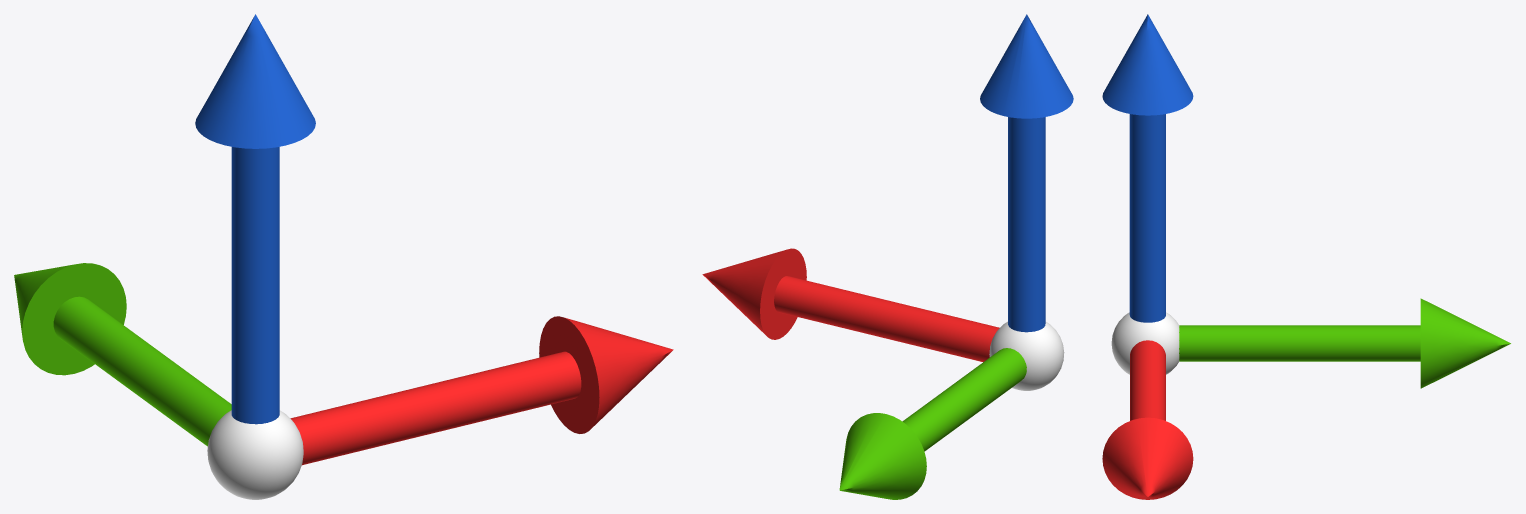
Rendered from axis_gizmo.glb.
3 views of the same model, side by side, from view 1: azimuth 30°, elevation 25°; view 2: azimuth 150°, elevation 25°; view 3: azimuth 270°, elevation 25° (orthographic). The views are drawn at different scales.
Visible parts, largest first — view 1: sw2urdf_01bfdf8a-bc3a-4353-9af7-1506560cd4e8; view 2: sw2urdf_01bfdf8a-bc3a-4353-9af7-1506560cd4e8; view 3: sw2urdf_01bfdf8a-bc3a-4353-9af7-1506560cd4e8.
Part boxes in pixels (box(x1,y1,x2,y2)): sw2urdf_01bfdf8a-bc3a-4353-9af7-1506560cd4e8: box(14, 14, 673, 499); sw2urdf_01bfdf8a-bc3a-4353-9af7-1506560cd4e8: box(702, 14, 1073, 499); sw2urdf_01bfdf8a-bc3a-4353-9af7-1506560cd4e8: box(1102, 14, 1510, 499).
Bounding box in the file's own units: 0.1125 × 0.1125 × 0.1125.
